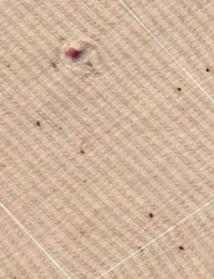hole: (54, 36, 100, 71)
stain: (30, 108, 56, 137), (73, 140, 94, 163), (168, 237, 192, 255), (142, 205, 161, 225), (170, 82, 187, 101), (200, 61, 214, 80)
